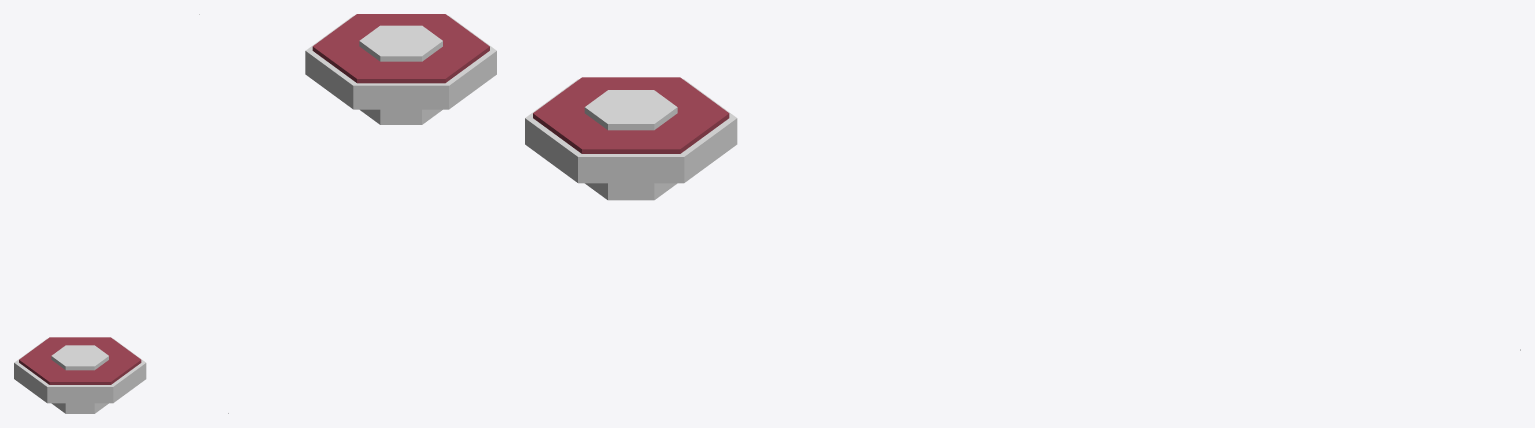
File: defaulttile.glb
3 renders of one model, left to right at view 1: azimuth 30°, elevation 25°; view 2: azimuth 210°, elevation 25°; view 3: azimuth 270°, elevation 25°, orthographic. The views are drawn at different scales.
Visible parts, largest first — view 1: Cylinder.001, Cylinder, Cylinder.002; view 2: Cylinder.001, Cylinder, Cylinder.002; view 3: Cylinder.001, Cylinder, Cylinder.002.
Boxes of the visible parts, box(x1,y1,x2,y2) form: Cylinder.001: box(19, 337, 141, 384); Cylinder: box(14, 338, 146, 403); Cylinder.002: box(51, 345, 108, 413); Cylinder.001: box(312, 14, 489, 83); Cylinder: box(305, 15, 496, 109); Cylinder.002: box(359, 25, 442, 124); Cylinder.001: box(533, 77, 729, 153); Cylinder: box(525, 79, 737, 183); Cylinder.002: box(584, 90, 677, 200).
Size of the model in its own units: 57.49 by 11.1 by 69.22.
